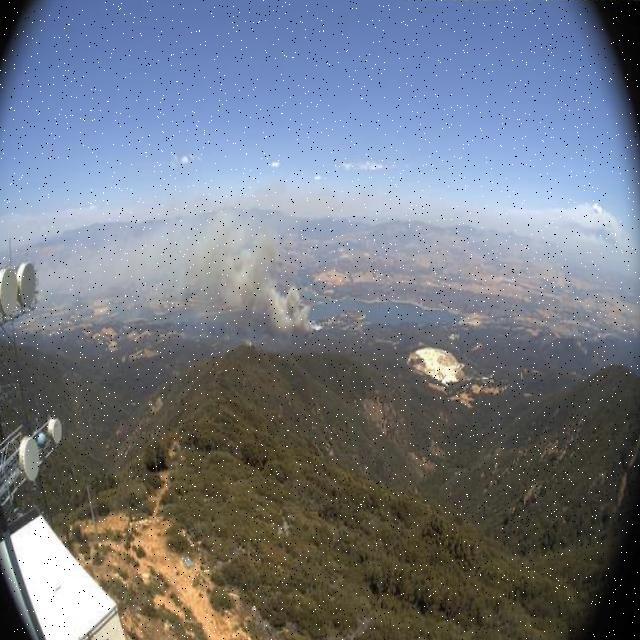smoke: (47, 196, 326, 336)
